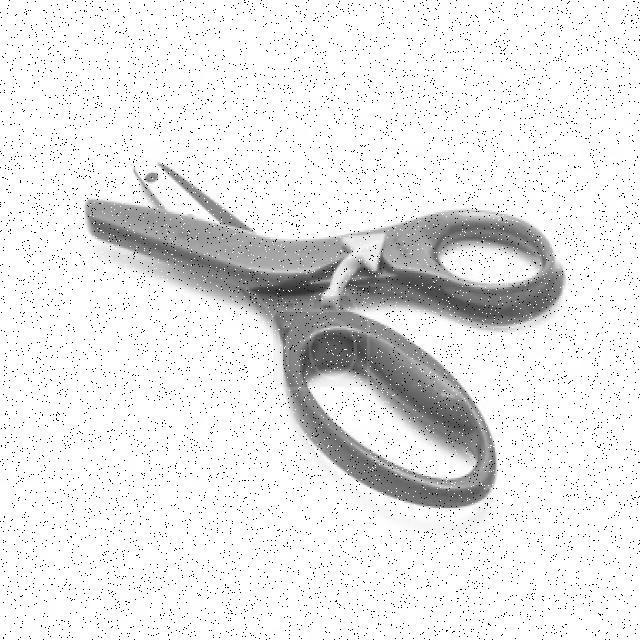scissors: (84, 148, 568, 521)
